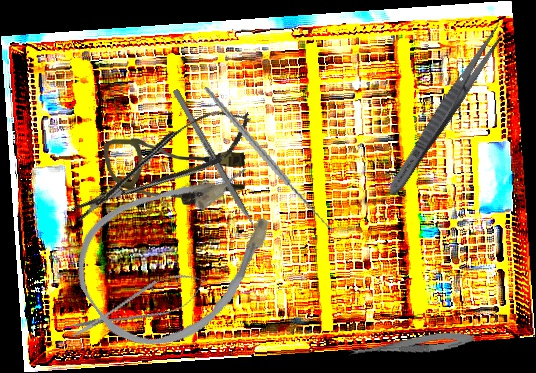Cannula: (54, 135, 307, 373), (103, 134, 247, 208)
Dressing Forceps: (383, 21, 509, 200)
Hook Surgical: (203, 67, 341, 248)
Micro Scissor: (59, 96, 263, 233), (63, 262, 213, 350), (347, 328, 476, 364)
Pusher: (171, 88, 270, 251)
